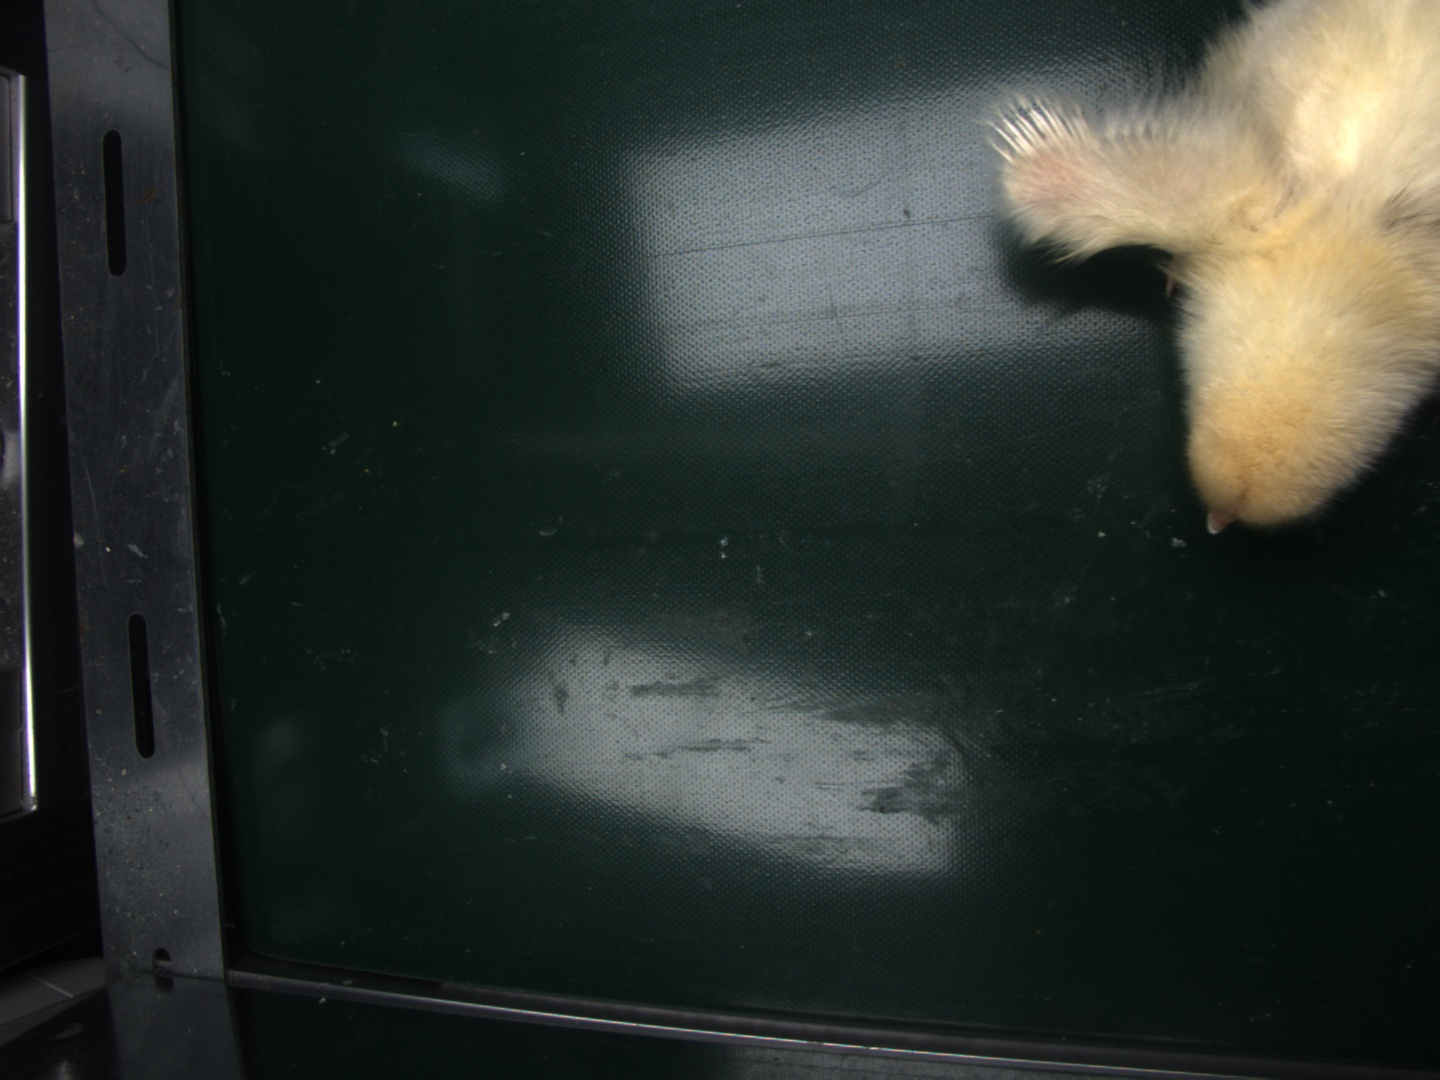male: (996, 106, 1078, 168)
